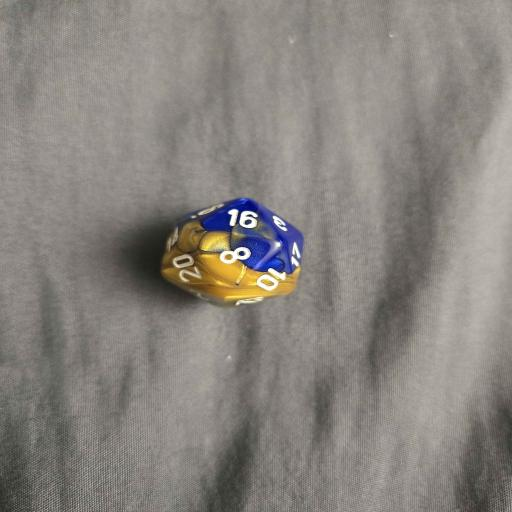twenty sided dice: (161, 198, 304, 308)
